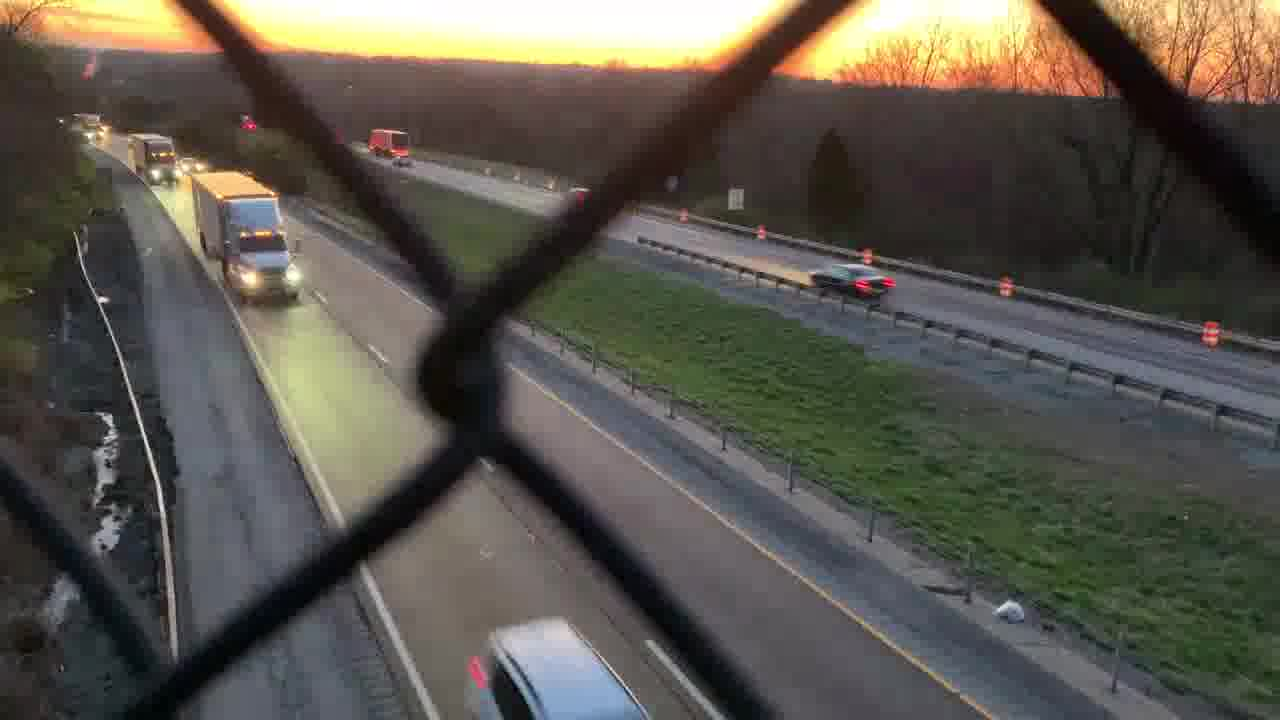heavyTruck: (191, 170, 309, 308)
smallCar: (802, 255, 899, 308)
